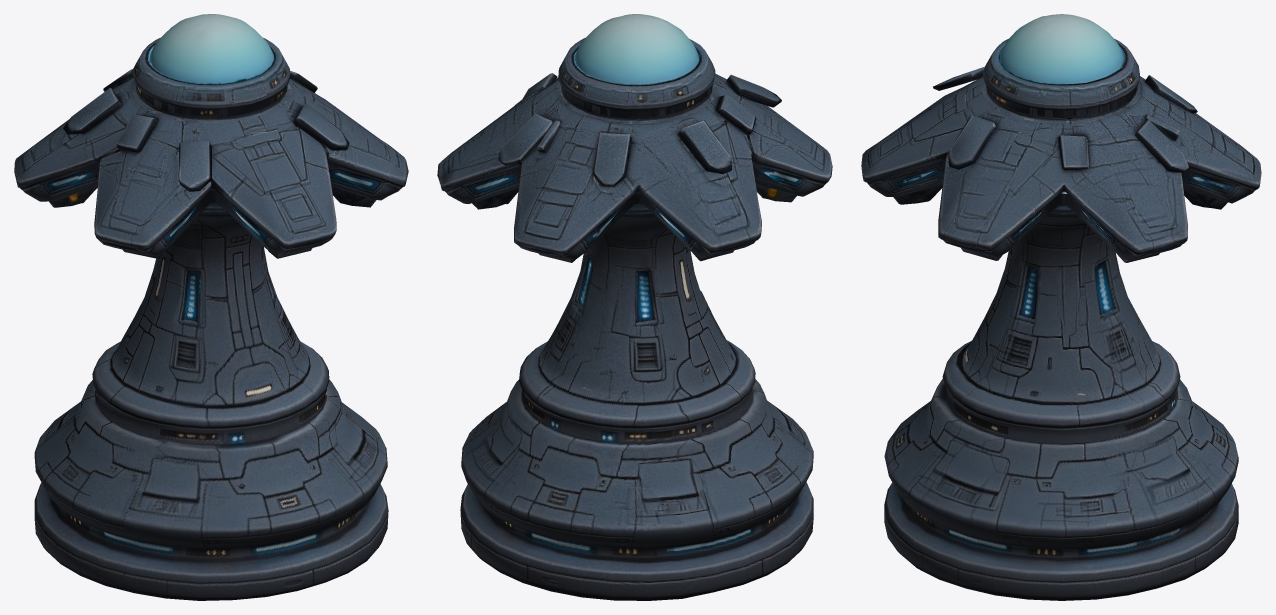
Rendered from futuristic+chess+pawn+3d+model.glb.
3 views of the same model, side by side, from view 1: azimuth 30°, elevation 25°; view 2: azimuth 150°, elevation 25°; view 3: azimuth 270°, elevation 25° (orthographic).
Visible parts, largest first — view 1: tripo_node_e91c37a2-e54b-439c-9ef1-7b8f190539ae; view 2: tripo_node_e91c37a2-e54b-439c-9ef1-7b8f190539ae; view 3: tripo_node_e91c37a2-e54b-439c-9ef1-7b8f190539ae.
Part boxes in pixels (left/top/right/bottom): tripo_node_e91c37a2-e54b-439c-9ef1-7b8f190539ae: left=14, top=14, right=408, bottom=600; tripo_node_e91c37a2-e54b-439c-9ef1-7b8f190539ae: left=437, top=14, right=832, bottom=600; tripo_node_e91c37a2-e54b-439c-9ef1-7b8f190539ae: left=861, top=14, right=1261, bottom=600.
Bounding box in the file's own units: 0.6504 × 0.998 × 0.7129.
1 material, 1 textured.
